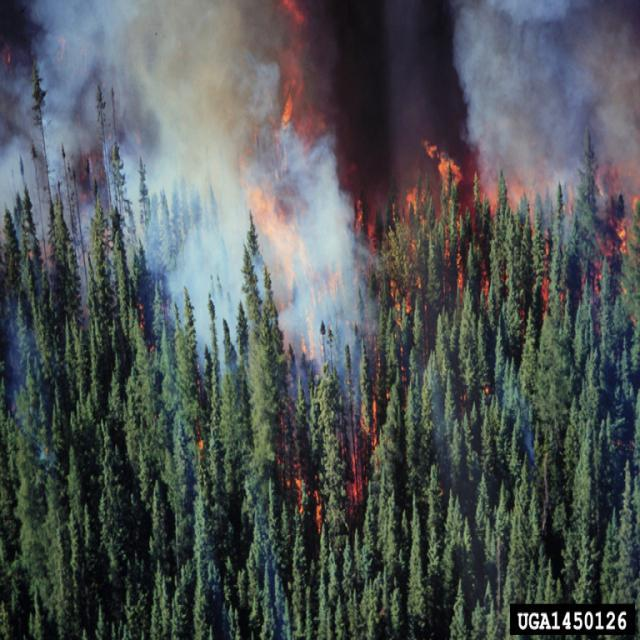Smoke: (0, 0, 386, 421), (452, 0, 640, 246)
